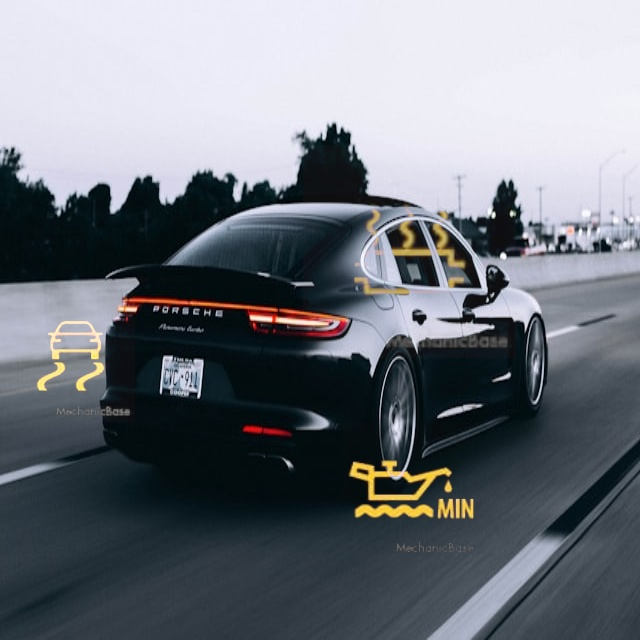symbol: (303, 145, 516, 358), (342, 422, 479, 559), (5, 292, 135, 422)
